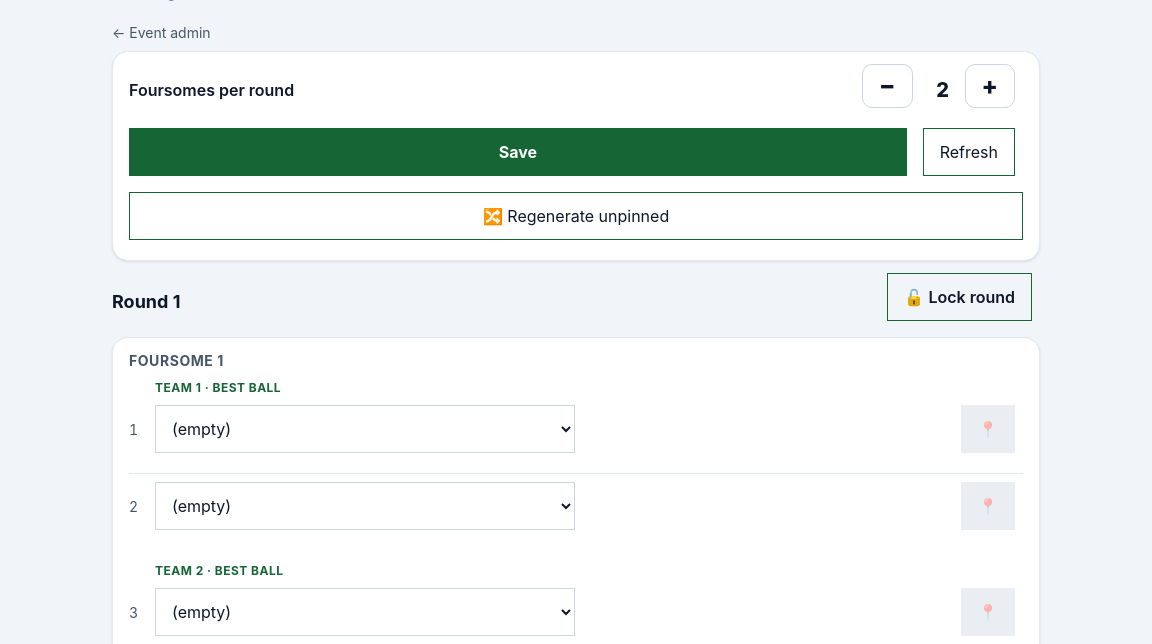
Test: PairingsPage › 422 conflict: page renders friendly inline error
This screenshot has width=1152, height=644.
Note: Assign Alice to two foursomes in round 1.
Step 1. Select "Alice" in the dropdown with test id "select-0-0-0" → [365, 429], box top-left (155, 405), bottom-right (575, 453)
(page scrolled)
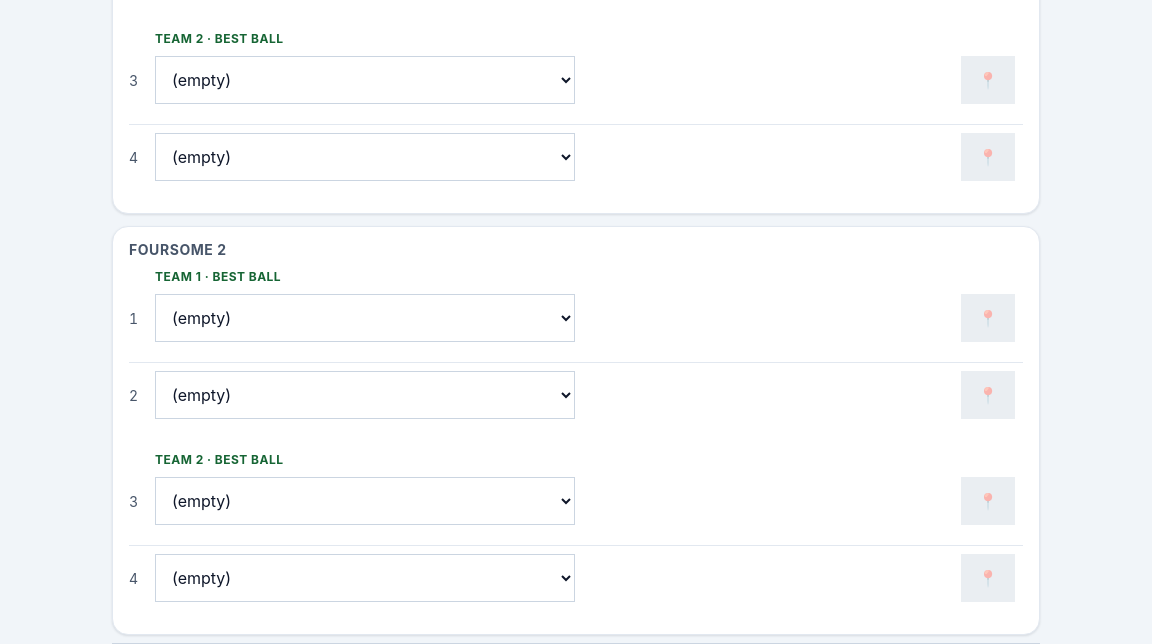
Step 2. Select "Alice" in the dropdown with test id "select-0-1-0" → [365, 318], box top-left (155, 294), bottom-right (575, 342)
(page scrolled)
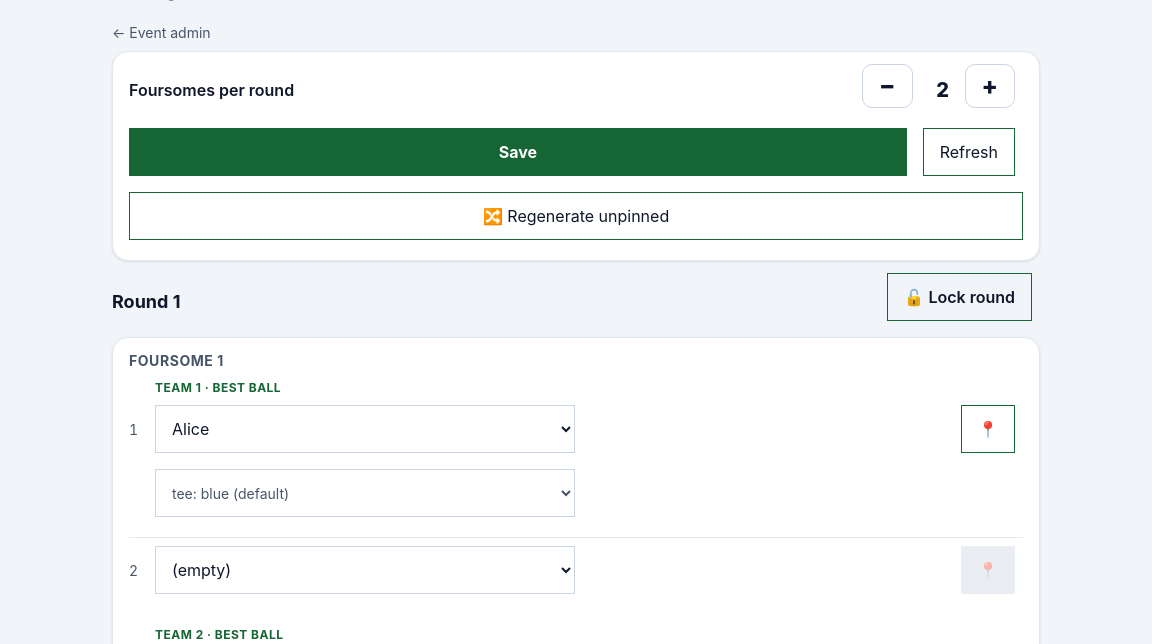
Step 3. Click the button with test id "save-button" → [518, 152], box top-left (129, 128), bottom-right (907, 176)
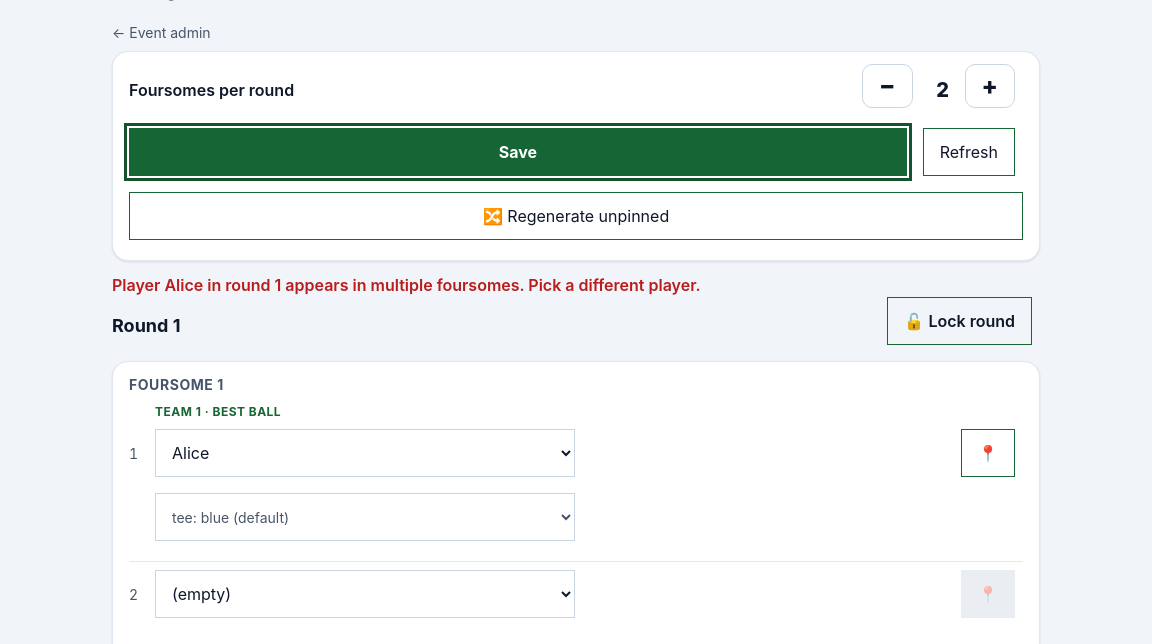
expect the message shows "multiple foursomes": met, box top-left (112, 275), bottom-right (701, 295)
expect the message shows "Alice": met, box top-left (112, 275), bottom-right (701, 295)
